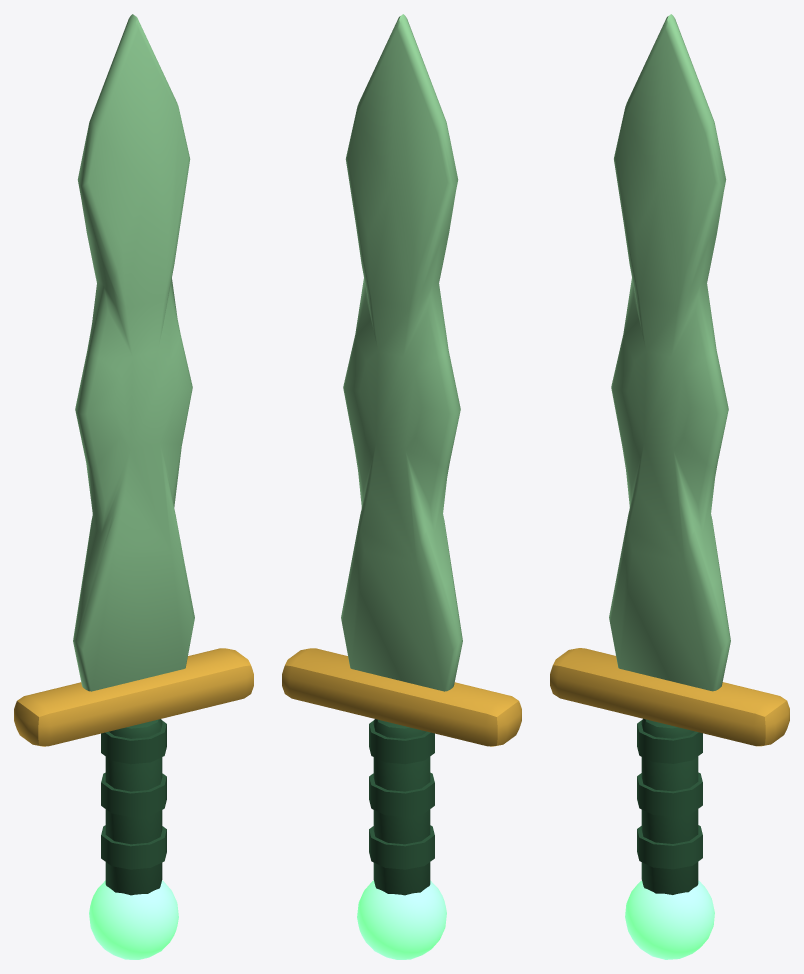
File: kris.glb
3 views of the same model, side by side, from view 1: azimuth 30°, elevation 25°; view 2: azimuth 150°, elevation 25°; view 3: azimuth 330°, elevation 25° (orthographic).
Parts seen in each view (by area): view 1: wpn_kris; view 2: wpn_kris; view 3: wpn_kris.
Part boxes in pixels (bbox=[...]): wpn_kris: bbox=[14, 14, 253, 959]; wpn_kris: bbox=[282, 14, 521, 959]; wpn_kris: bbox=[550, 14, 789, 959].
Bounding box in the file's own units: 0.4 × 1.61 × 0.14.
